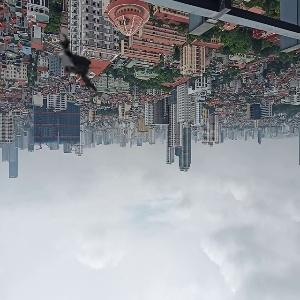drone: (43, 29, 116, 102)
